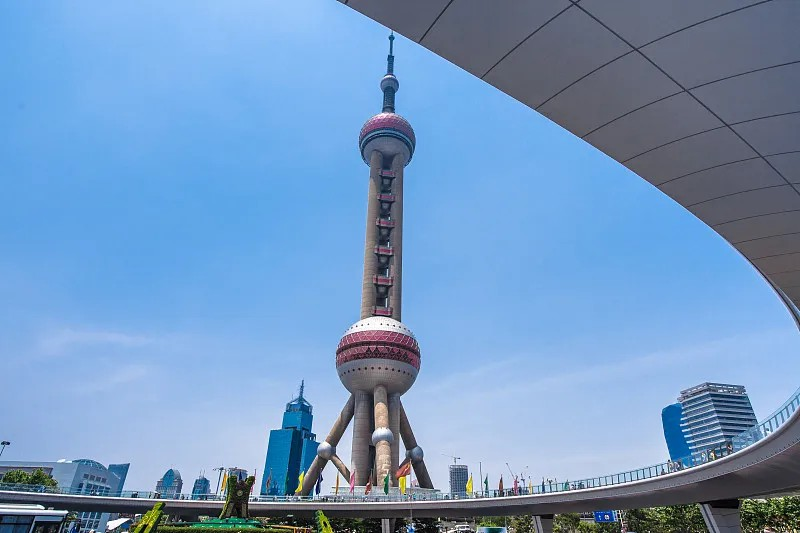Oriental: (295, 29, 437, 497)
